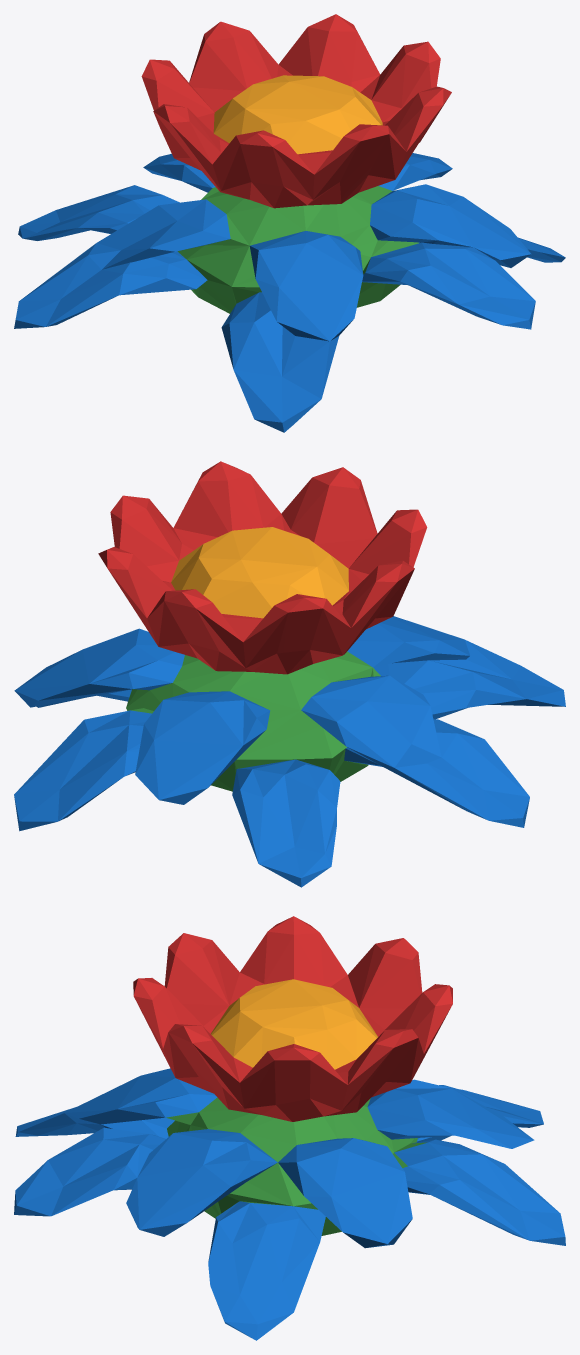
The model's file is fantasy_plant_071.fbx.
3 views of the same model, one above another, from view 1: azimuth 30°, elevation 25°; view 2: azimuth 150°, elevation 25°; view 3: azimuth 270°, elevation 25° (orthographic). The views are drawn at different scales.
Visible parts, largest first — view 1: fantasy_plant.071; view 2: fantasy_plant.071; view 3: fantasy_plant.071.
Part boxes in pixels (x1,y1,x2,y2): fantasy_plant.071: (14, 14, 565, 432); fantasy_plant.071: (14, 461, 565, 887); fantasy_plant.071: (14, 916, 565, 1340).
Size of the model in its own units: 533 by 235 by 487.
Materials: 1 (1 with a texture image).
